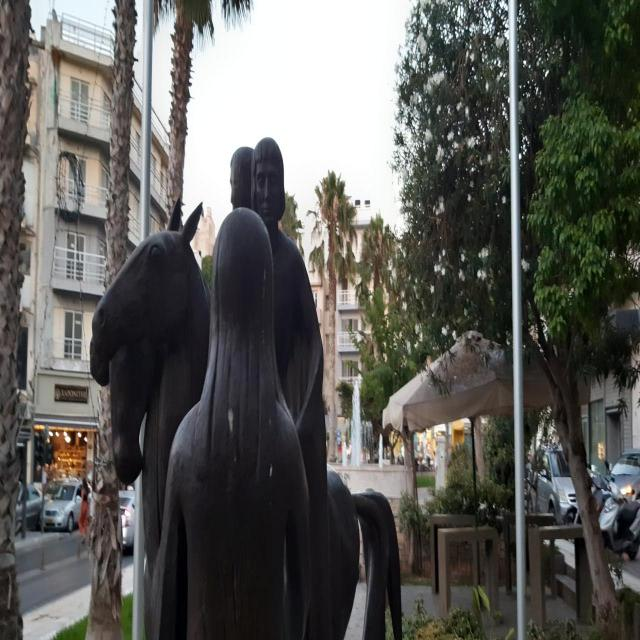Aretousa: (91, 137, 403, 640)
